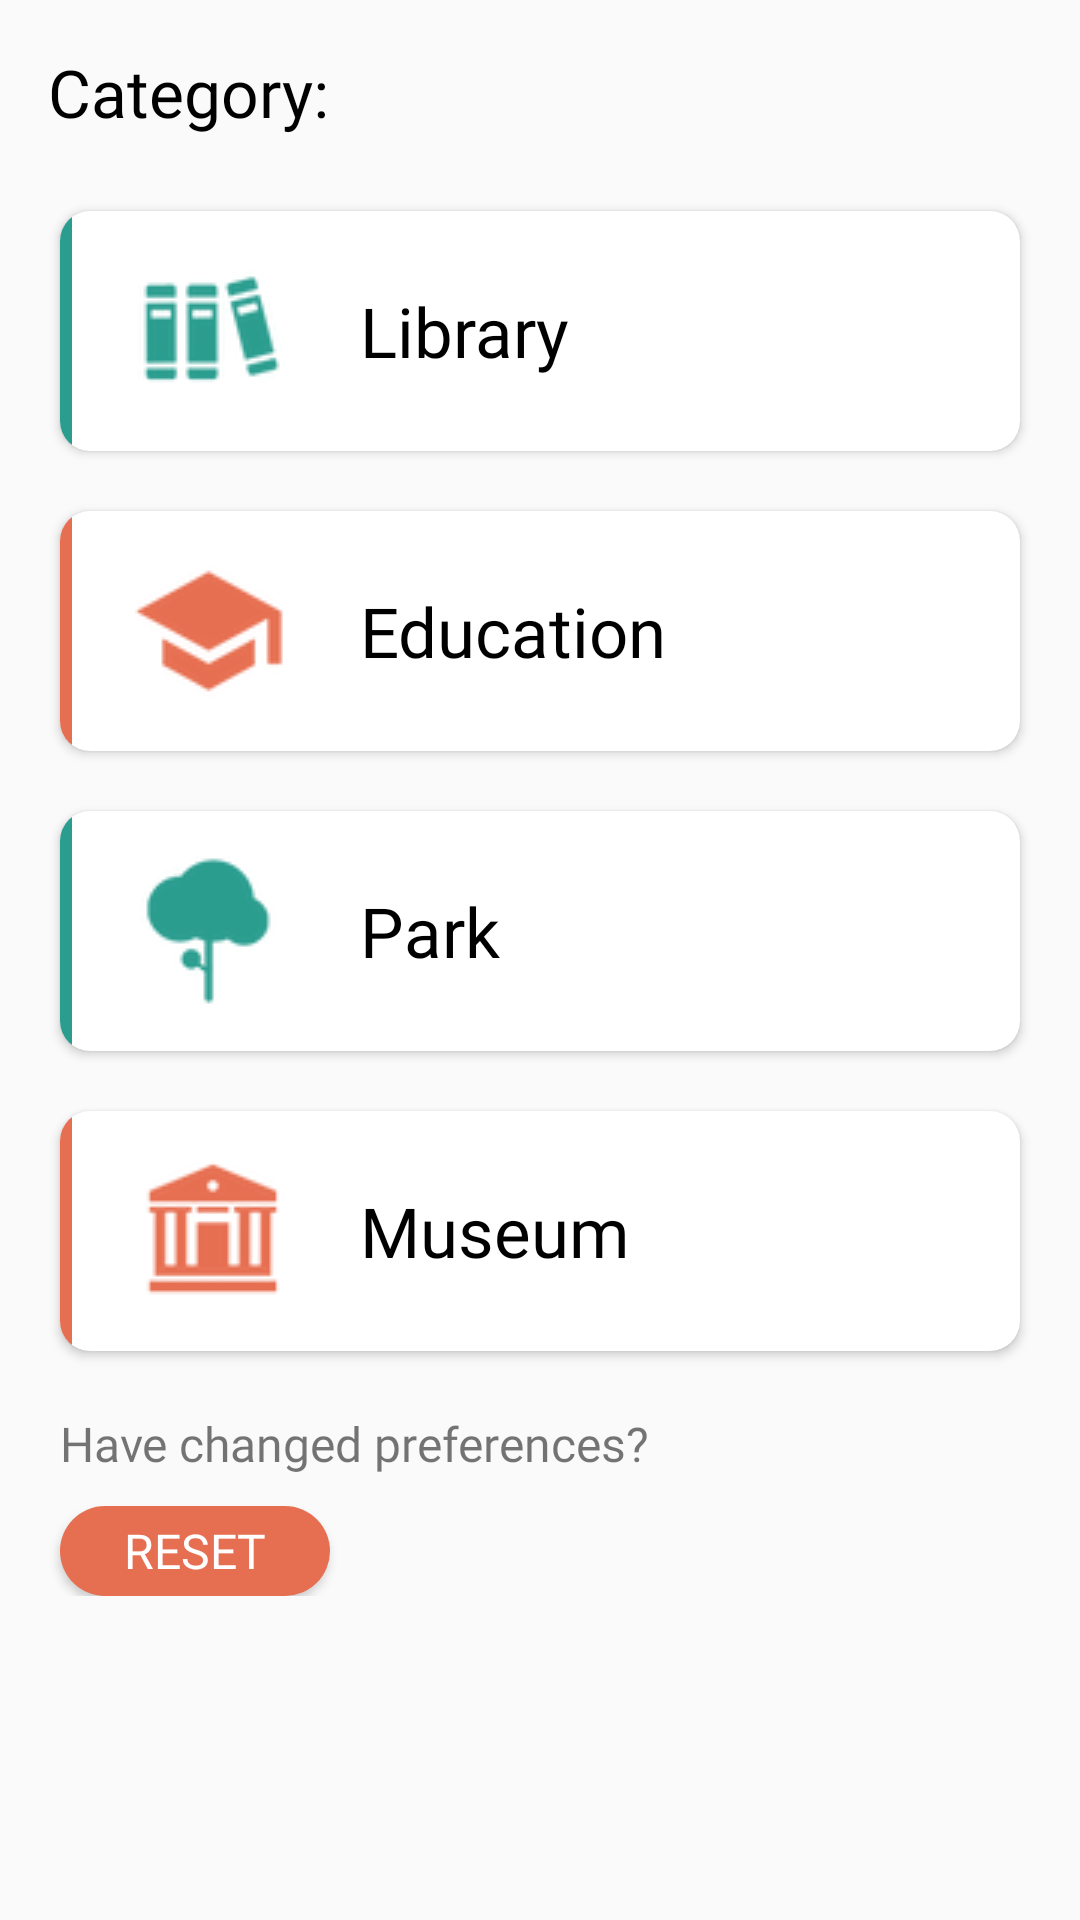

Screen size 1080 × 1920. Icon name, then its box in pixels as {"left": x1, "top": y1, "right": x2, "bottom": y2}:
edu: {"left": 135, "top": 570, "right": 283, "bottom": 692}
